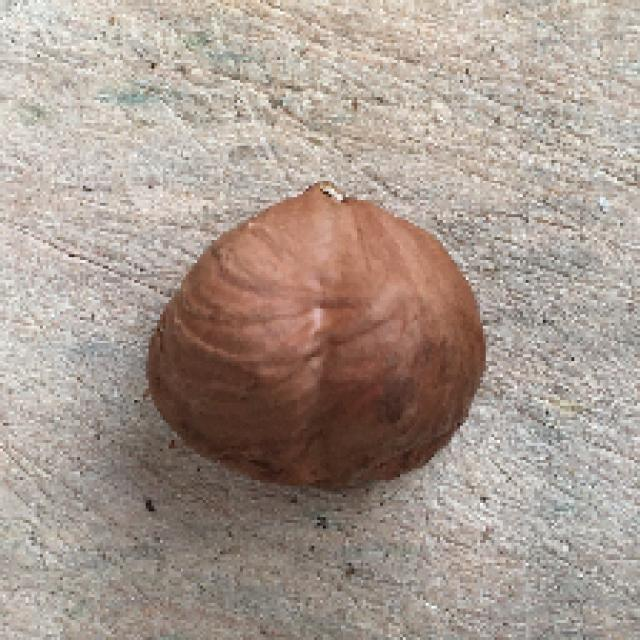hazelnut: (139, 177, 488, 496)
